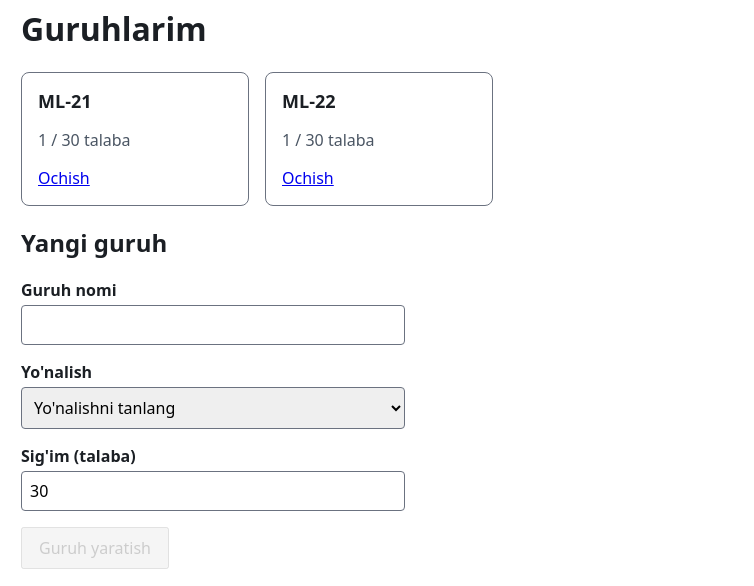
Test: /sections (SEC-01) › o'qituvchi guruhlarini ko'radi va yangi guruh yaratadi
Expected: the heading "ML-21" is shown, [38,89,92,113]
Step 1. Type "ML-23" into the field labelled "Guruh nomi" → x=213, y=325, box [21,305,405,345]
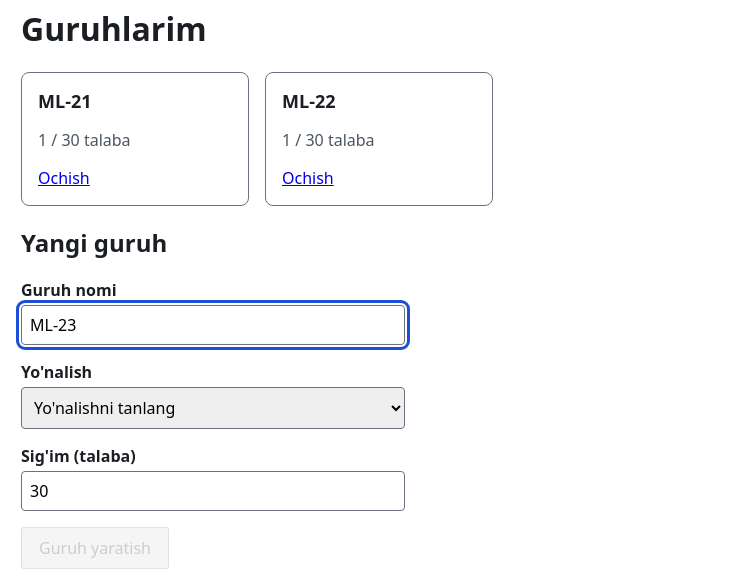
Step 2. Select "Dasturiy injiniring" in the dropdown labelled "Yo'nalish" → x=213, y=408, box [21,387,405,429]
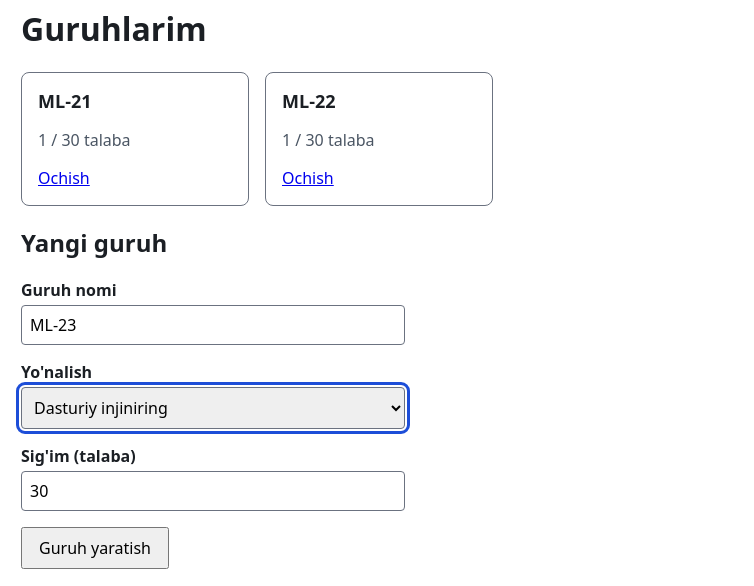
Step 3. Click the button "Guruh yaratish" → x=95, y=548, box [21,527,169,569]
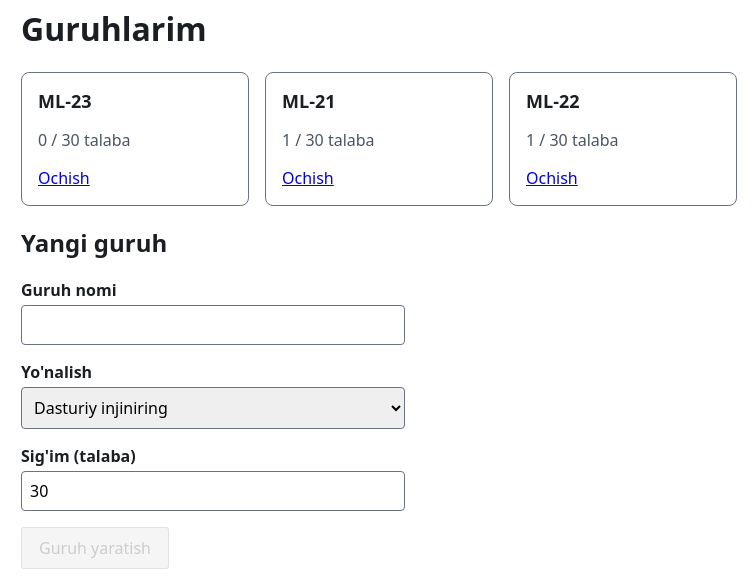
Expected: the heading "ML-23" is shown, [38,89,92,113]
